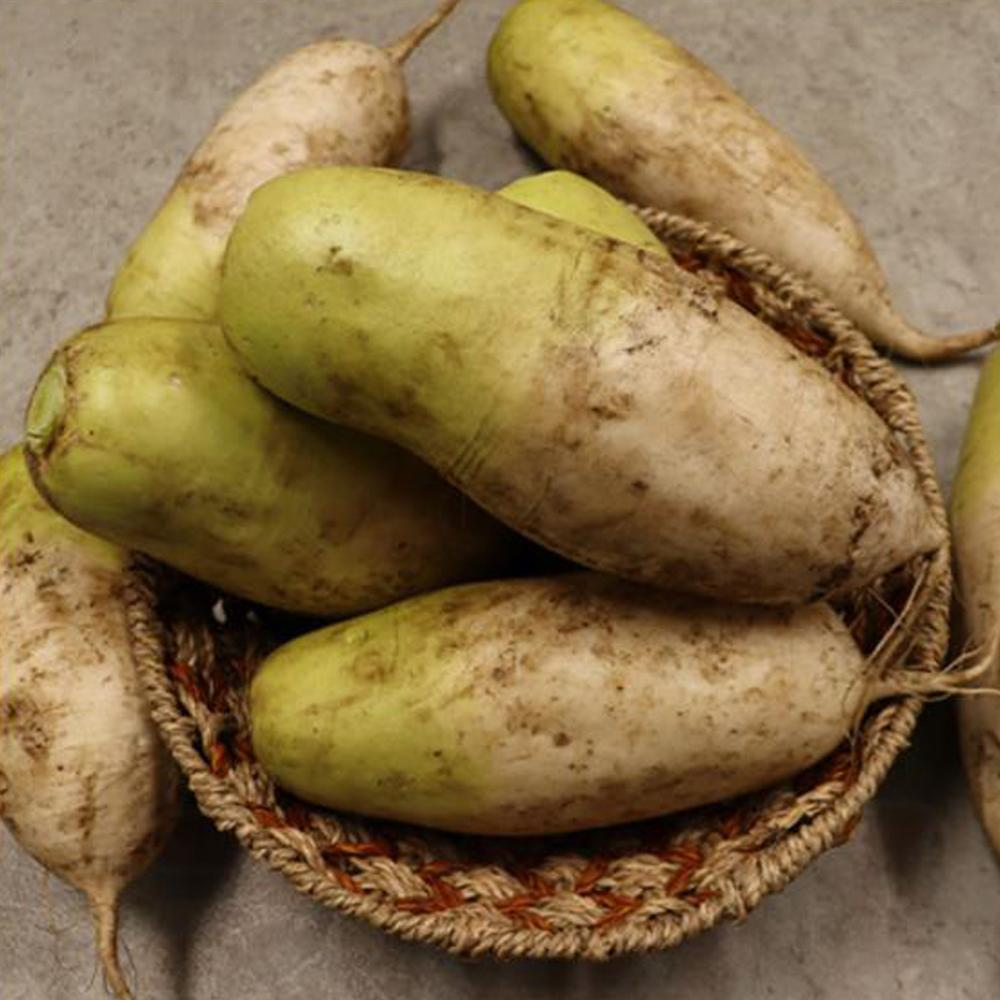radish: (464, 314, 1000, 773)
